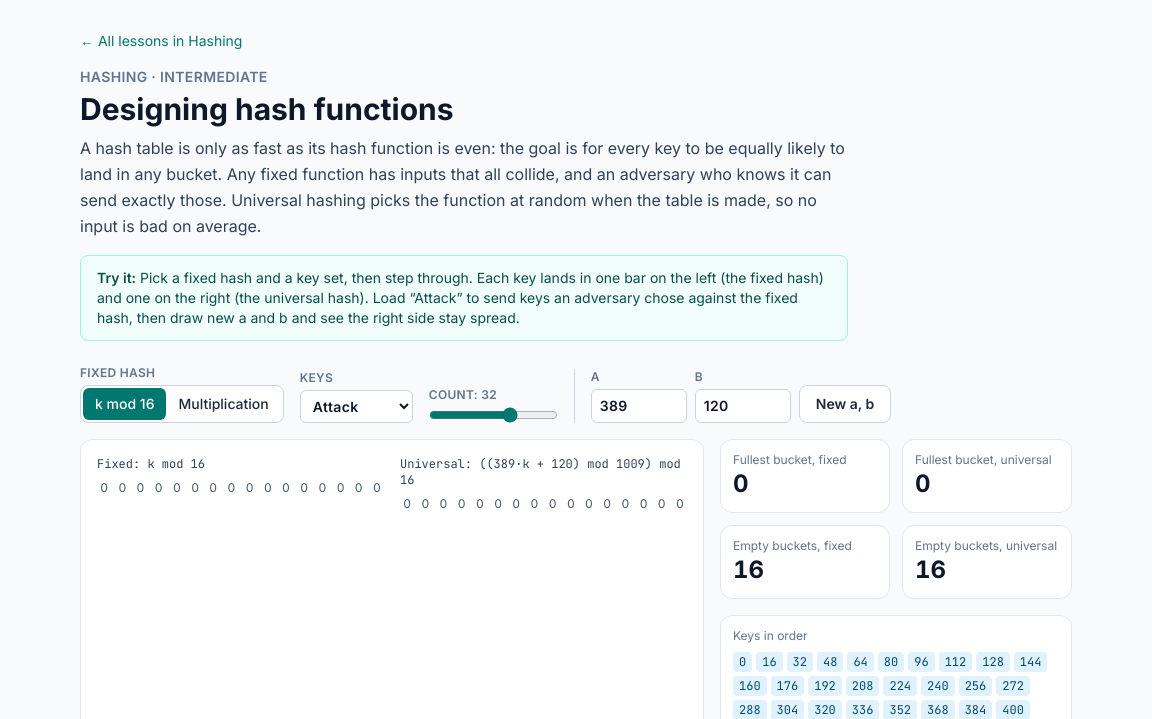
Test: designing hash functions lesson › rebuilds the attack against the multiplication method
The width and height of the screenshot is (1152, 719).
What coordinates should you click on to do the following:
click the radio button named "fixed"
I would click on:
 (224, 404)
Its box is [178, 395, 269, 412].
(page scrolled)
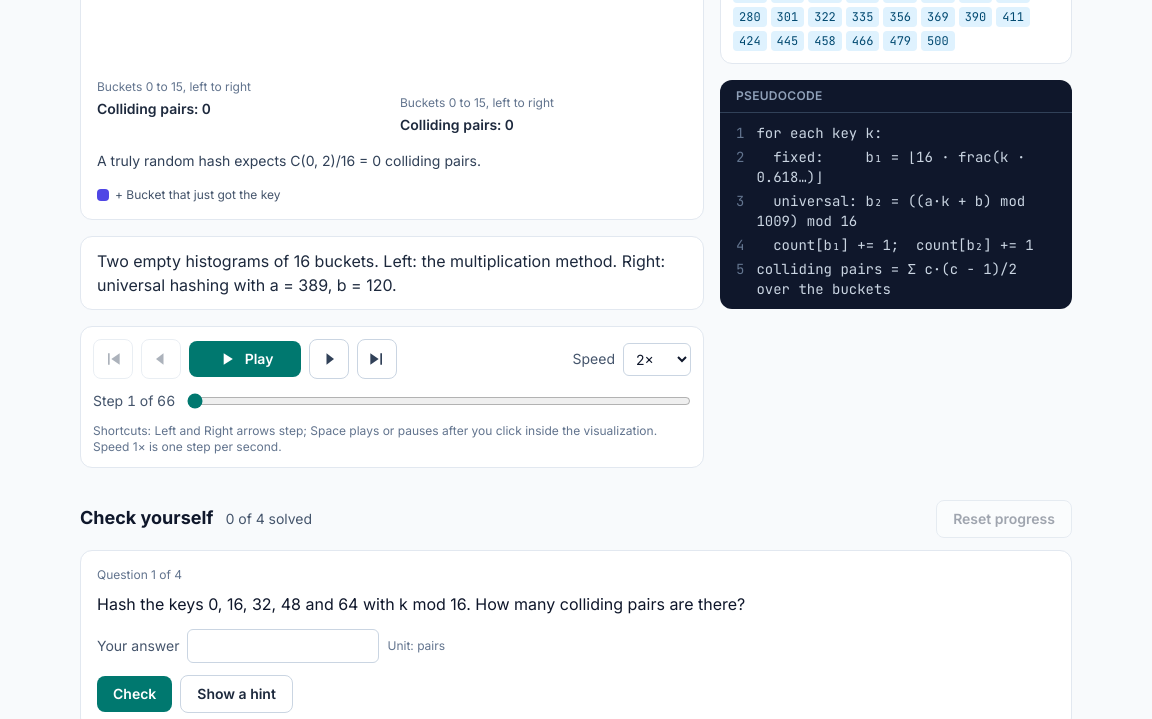
What coordinates should you click on to do the following:
click the button named "Next step"
I would click on:
 (329, 359)
Its box is [309, 339, 349, 379].
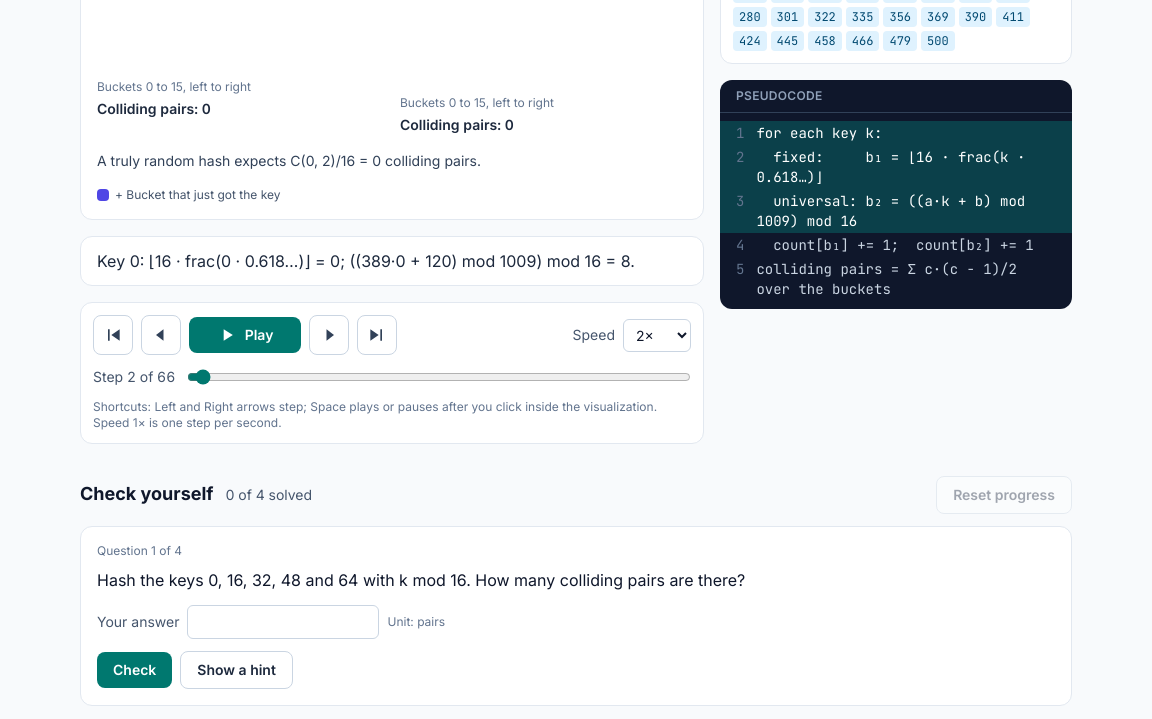
What coordinates should you click on to do the following:
click the button named "Next step"
I would click on:
 (329, 335)
Its box is [309, 315, 349, 355].
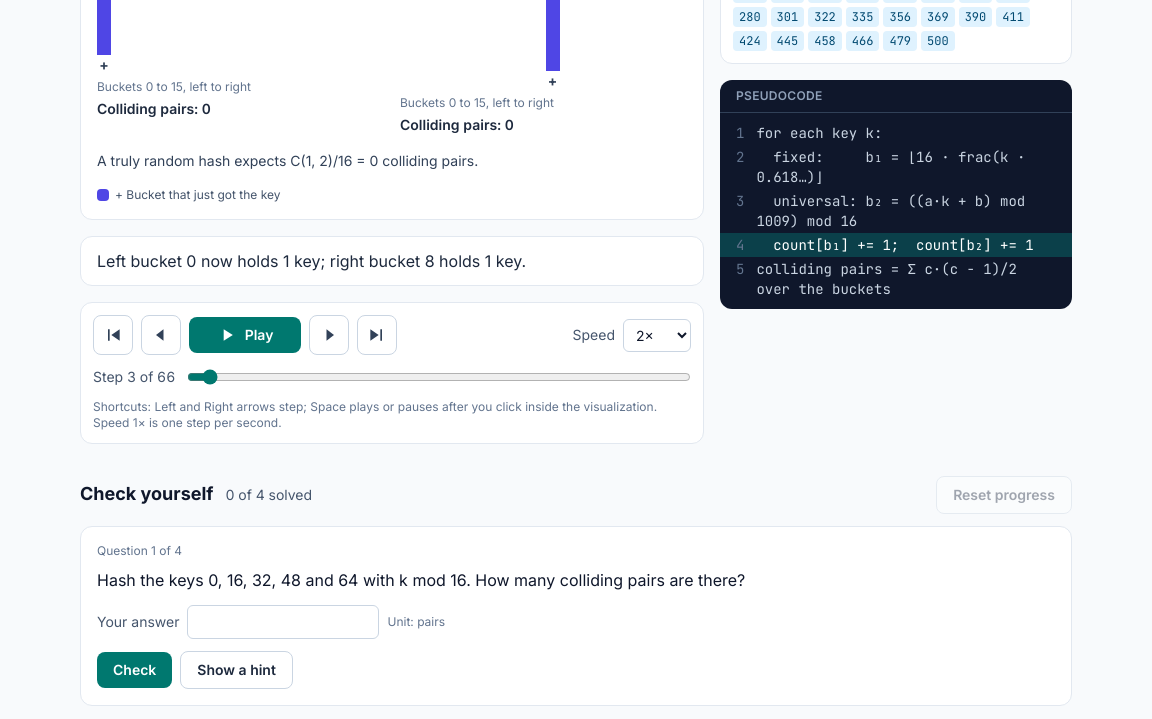
What coordinates should you click on to do the following:
click the button named "Next step"
I would click on:
 (329, 335)
Its box is [309, 315, 349, 355].
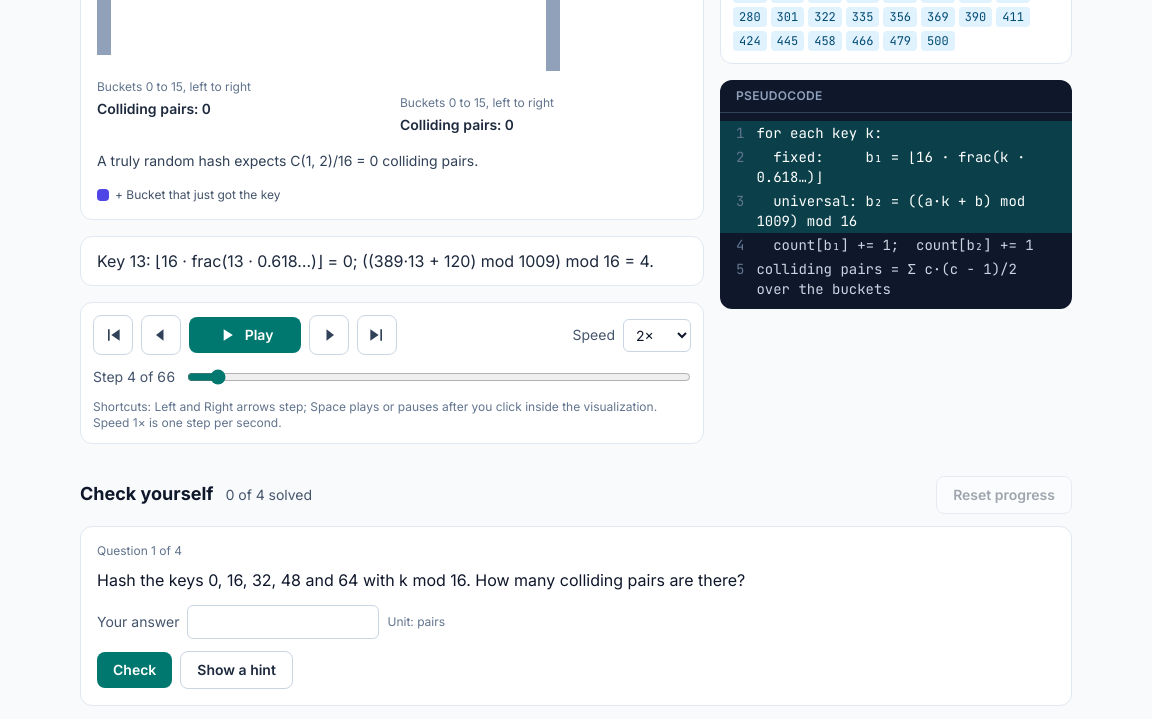
Expected: the text "Key 13: ⌊16 · frac(13 · 0.618…)⌋ = 0; ((389·13 + 120) mod 1009) mod 16 = 4." is shown, [80, 236, 704, 286]
What coordinates should you click on to do the following:
click the button named "Last step"
I would click on:
 (377, 335)
Its box is [357, 315, 397, 355].
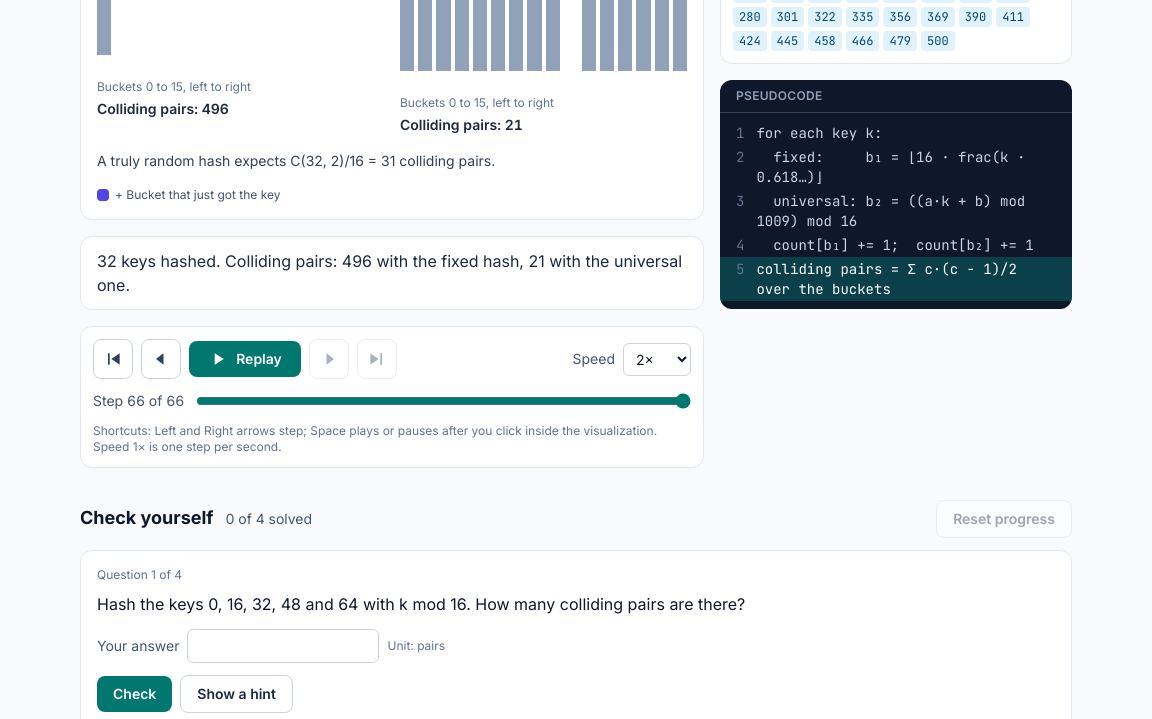
Expected: the text "Colliding pairs: 496" is shown, [97, 100, 229, 117]
